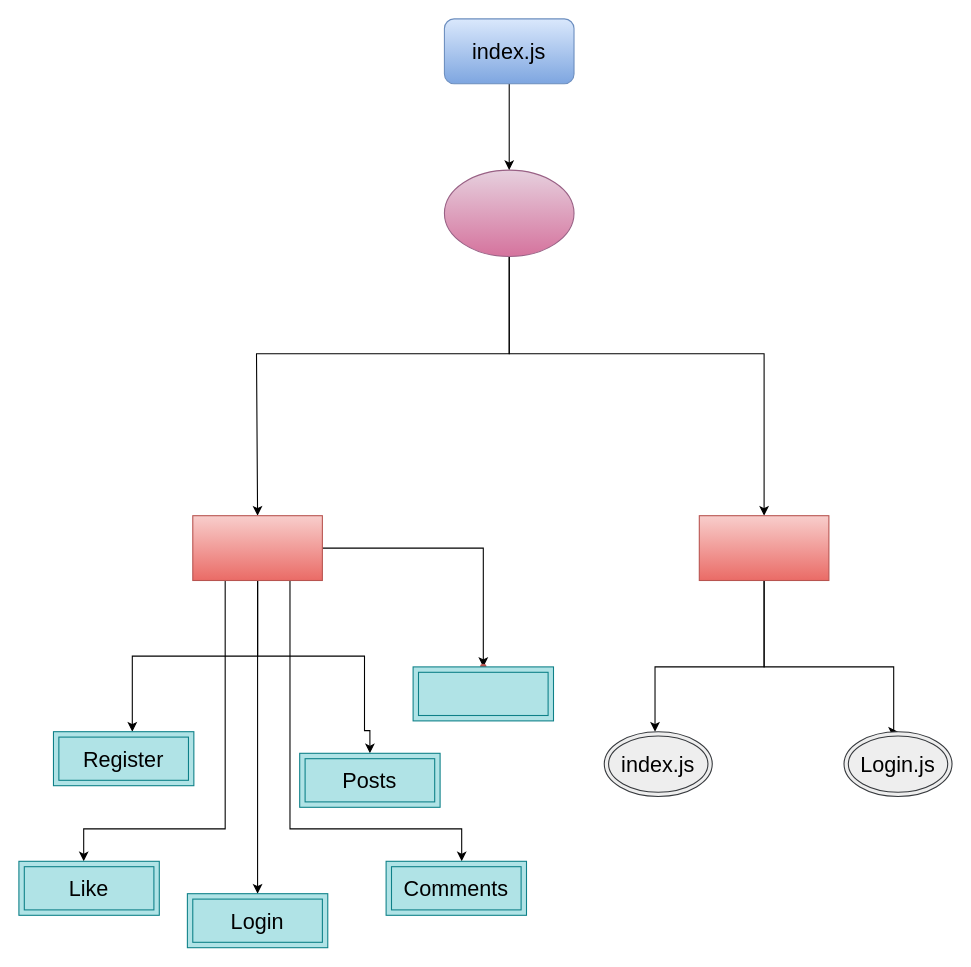
The diagram is 971 pixels wide and 967 high, and some of its shapes have lost their labels. Each missing label, with the centre of its shape:
"Account" goes at (483,693).
"App.js" goes at (508,212).
"Components" goes at (257,547).
"Reducers" goes at (763,547).
